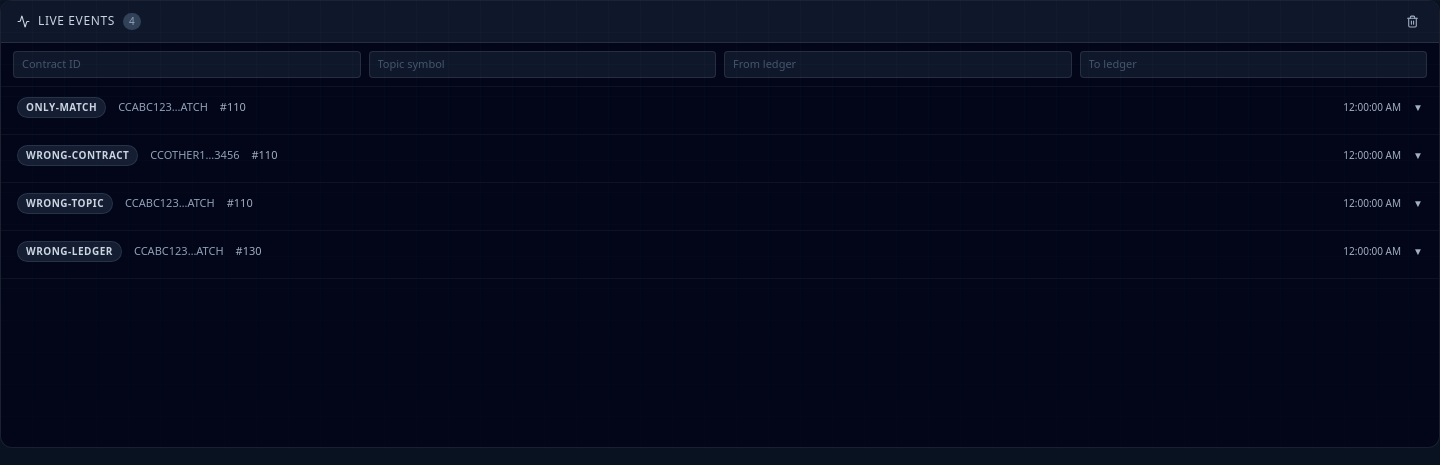
it: EventsPanel › filters by contract ID, topic symbol, and ledger range
Type "CCABC123" into the field named "Filter by contract ID" at {"x": 187, "y": 64}, box [13, 51, 360, 78]
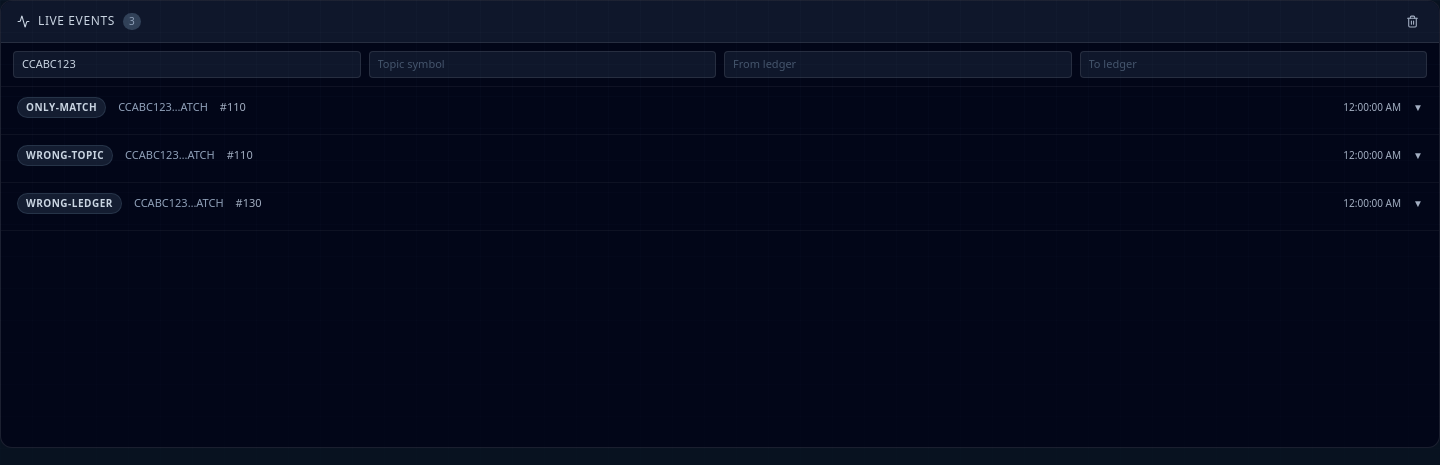
Type "Transfer" into the field named "Filter by event topic" at {"x": 542, "y": 64}, box [368, 51, 716, 78]
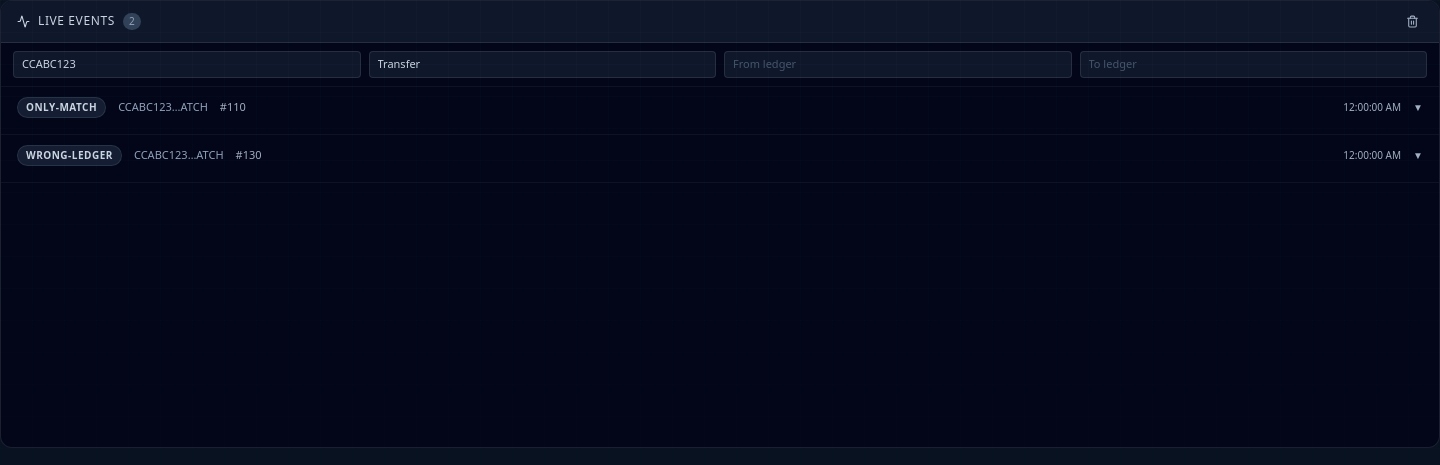
Type "100" into the number field named "Filter from ledger" at {"x": 898, "y": 64}, box [724, 51, 1072, 78]
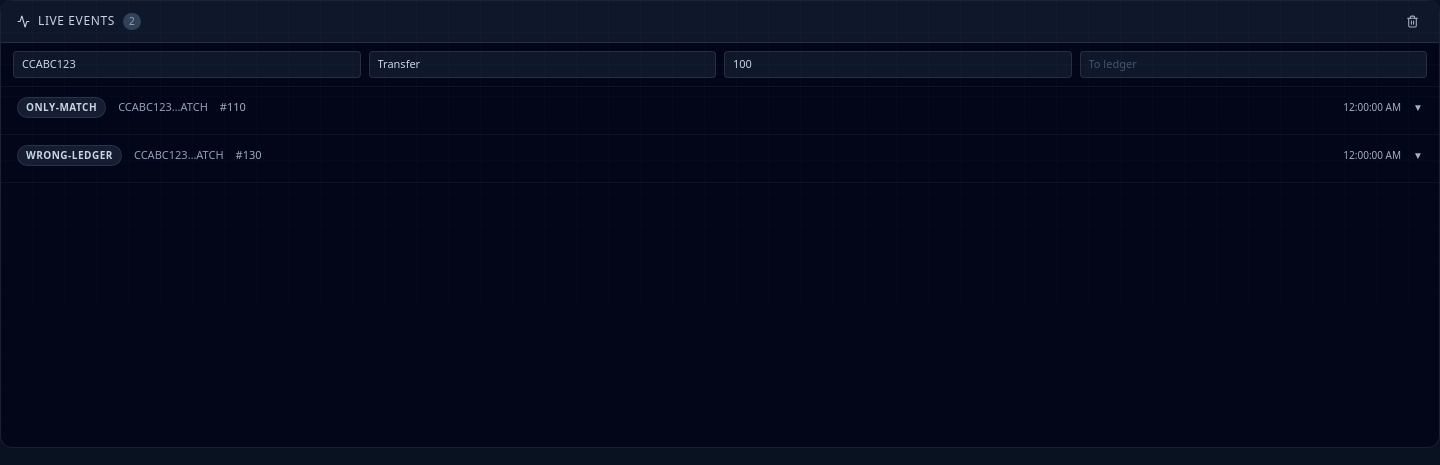
Type "120" into the number field named "Filter to ledger" at {"x": 1253, "y": 64}, box [1080, 51, 1427, 78]
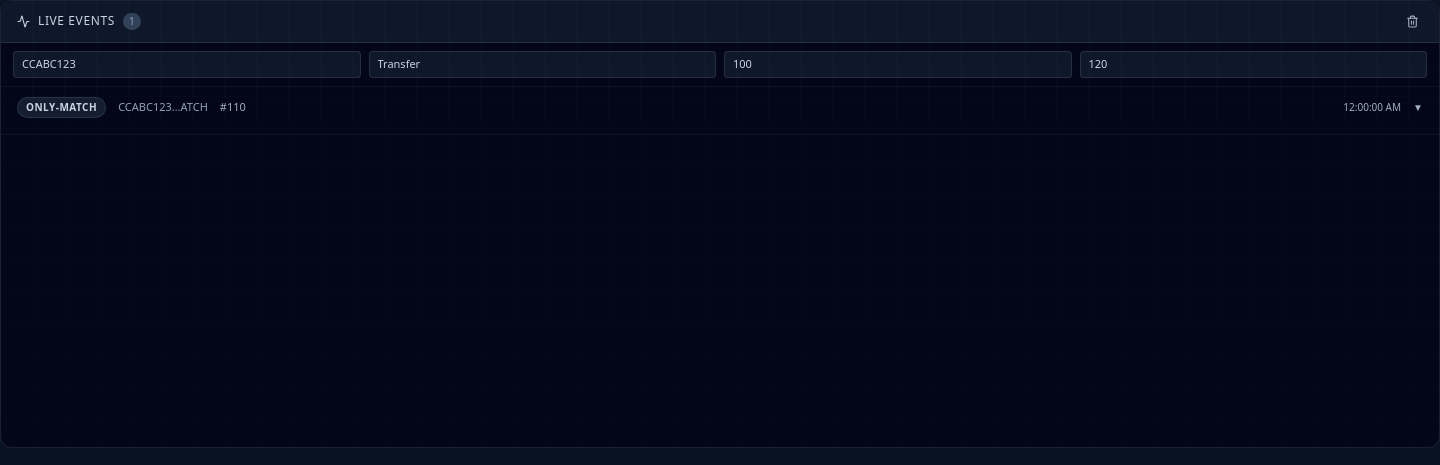
Expected: the text "only-match" is shown, [17, 96, 106, 118]
Expected: the text "wrong-ledger" is gone
